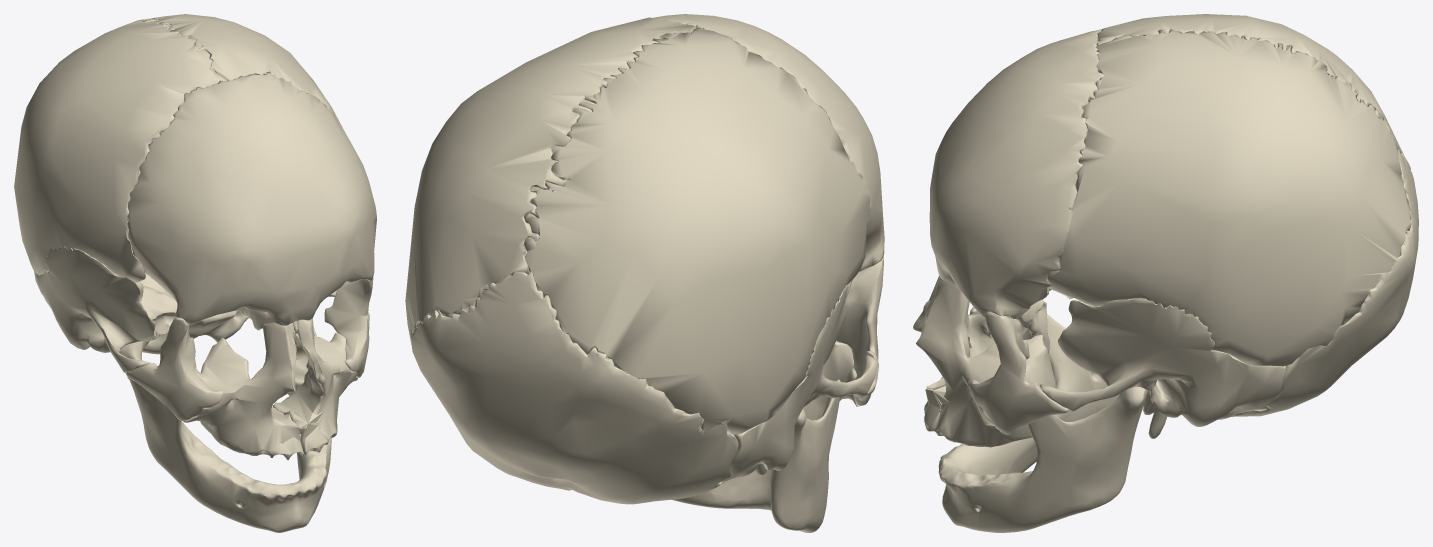
Rendered from head-balanced.glb.
3 views of the same model, side by side, from view 1: azimuth 30°, elevation 25°; view 2: azimuth 150°, elevation 25°; view 3: azimuth 270°, elevation 25° (orthographic). The views are drawn at different scales.
Visible parts, largest first — view 1: bp3d.FMA52734, bp3d.FMA9613, bp3d.FMA9711, bp3d.FMA52748, bp3d.FMA52737, bp3d.FMA52747, bp3d.FMA52735; view 2: bp3d.FMA9613, bp3d.FMA52735, bp3d.FMA52734, bp3d.FMA52748, bp3d.FMA52737, bp3d.FMA52747, bp3d.FMA9711; view 3: bp3d.FMA9613, bp3d.FMA52734, bp3d.FMA52748, bp3d.FMA52737, bp3d.FMA9711, bp3d.FMA52735, bp3d.FMA52747.
Boxes of the visible parts, left/top/right/bottom form: bp3d.FMA52734: left=127, top=73, right=376, bottom=333; bp3d.FMA9613: left=14, top=14, right=344, bottom=282; bp3d.FMA9711: left=183, top=318, right=357, bottom=460; bp3d.FMA52748: left=119, top=326, right=331, bottom=532; bp3d.FMA52737: left=34, top=246, right=368, bottom=379; bp3d.FMA52747: left=126, top=275, right=373, bottom=420; bp3d.FMA52735: left=139, top=273, right=248, bottom=354; bp3d.FMA9613: left=405, top=17, right=870, bottom=434; bp3d.FMA52735: left=410, top=272, right=738, bottom=504; bp3d.FMA52734: left=653, top=14, right=884, bottom=271; bp3d.FMA52748: left=671, top=379, right=840, bottom=532; bp3d.FMA52737: left=721, top=280, right=877, bottom=482; bp3d.FMA52747: left=836, top=256, right=883, bottom=405; bp3d.FMA9711: left=803, top=341, right=859, bottom=420; bp3d.FMA9613: left=1047, top=14, right=1411, bottom=366; bp3d.FMA52734: left=929, top=29, right=1103, bottom=319; bp3d.FMA52748: left=938, top=314, right=1148, bottom=532; bp3d.FMA52737: left=1039, top=298, right=1285, bottom=438; bp3d.FMA9711: left=913, top=276, right=1056, bottom=447; bp3d.FMA52735: left=1231, top=148, right=1418, bottom=416; bp3d.FMA52747: left=969, top=288, right=1068, bottom=434.
Size of the model in its own units: 0.1512 by 0.2146 by 0.202.
